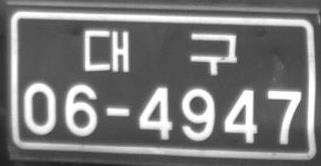0: (23, 81, 57, 135)
4: (223, 88, 257, 143), (139, 87, 173, 140)
6: (64, 82, 98, 137)
7: (266, 88, 302, 145)
9: (180, 87, 215, 141)
대구_D: (84, 28, 237, 76)
